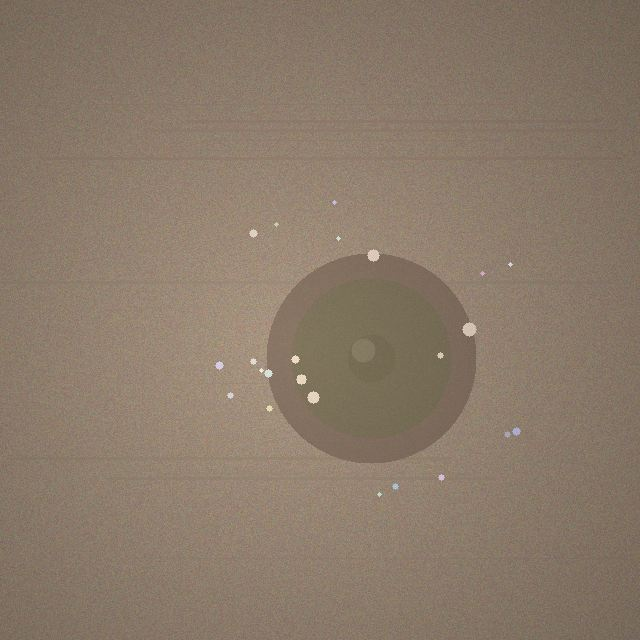overburn: (266, 253, 476, 463)
